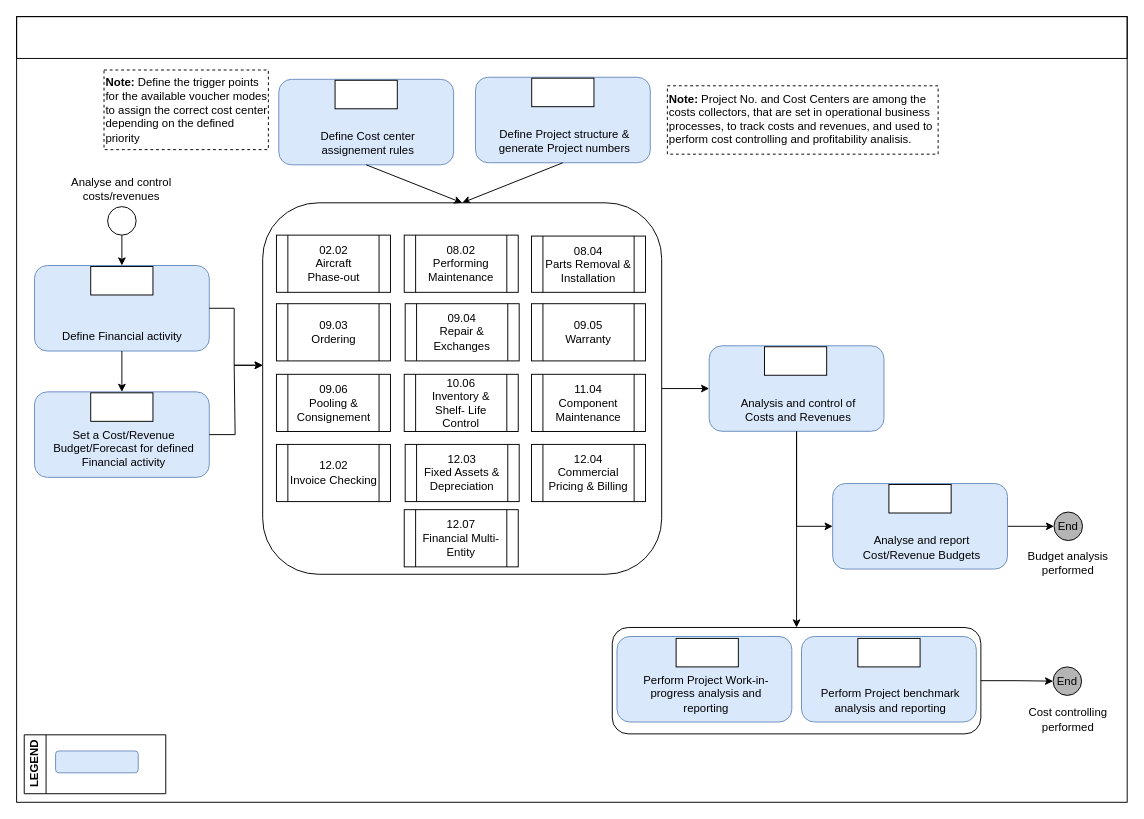
Some shapes in this 1144 by 819 pixel diagram are drawn without their labels. The centre of each missing label's shape, as x and y in pixels:
"12.06 Budgeting & Cost Controlling" goes at point 571,37.
"Controlling Dpt" goes at point 96,761.
"Desktop APN2734" goes at point 795,360.
"Desktop APN2755" goes at point 706,652.
"Desktop APN2756" goes at point 888,652.
"Desktop APN2888" goes at point 121,280.
"Desktop APN2892" goes at point 121,406.
"Desktop APN2920" goes at point 919,498.
"Desktop APN306" goes at point 562,92.
"Desktop APN3144" goes at point 365,94.
"Start" goes at point 121,220.
